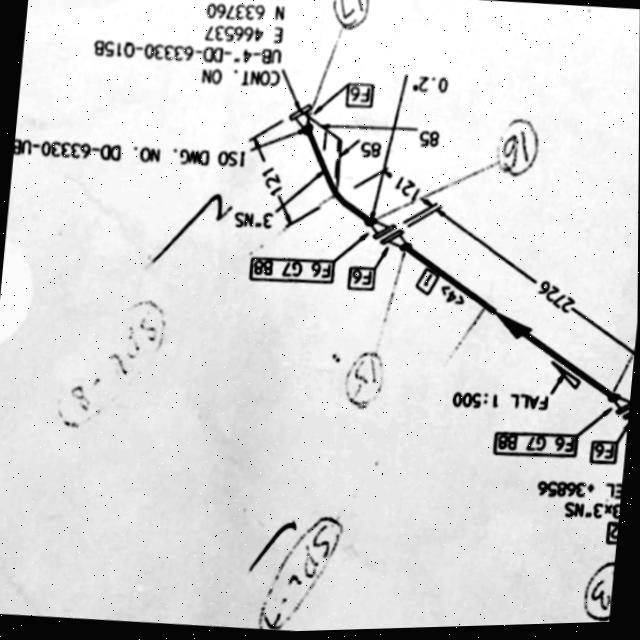Item number: (489, 428, 581, 466), (246, 255, 336, 289), (341, 82, 376, 114), (344, 264, 377, 296), (586, 440, 619, 471), (603, 523, 619, 551)
Measrement: (429, 197, 636, 370), (247, 136, 296, 232), (376, 165, 436, 215)
Pipeline: (402, 247, 619, 406), (288, 103, 368, 228)
Symbol: (302, 134, 387, 231), (362, 214, 410, 257), (606, 392, 631, 431)
Weld number: (337, 347, 389, 416), (492, 116, 543, 181), (578, 560, 615, 626), (327, 0, 371, 35)
other: (84, 0, 291, 97), (12, 131, 249, 176), (532, 478, 623, 527), (447, 386, 552, 418)
